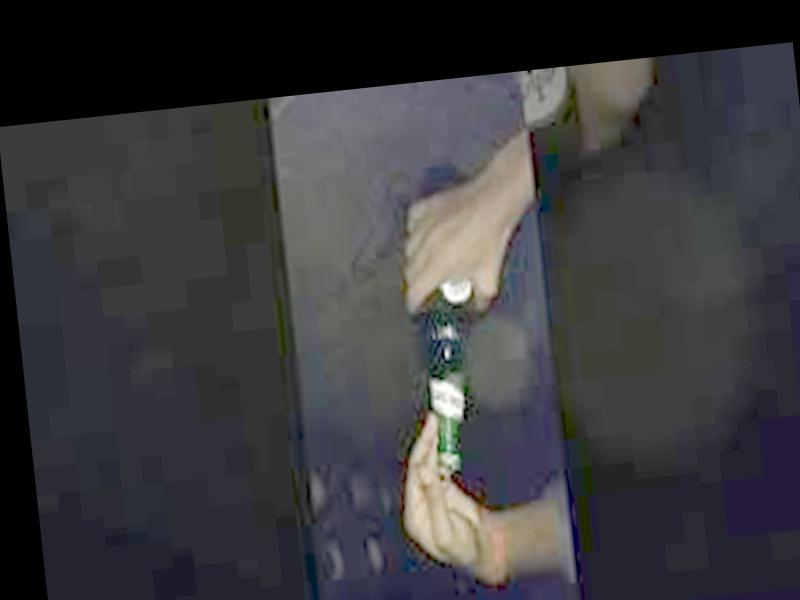Beer: (399, 165, 505, 471)
